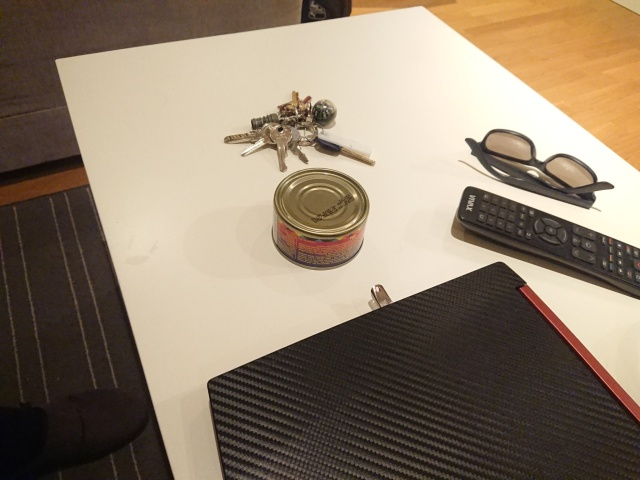Giana Tuna Salad Mexico 185g: (268, 165, 372, 272)
